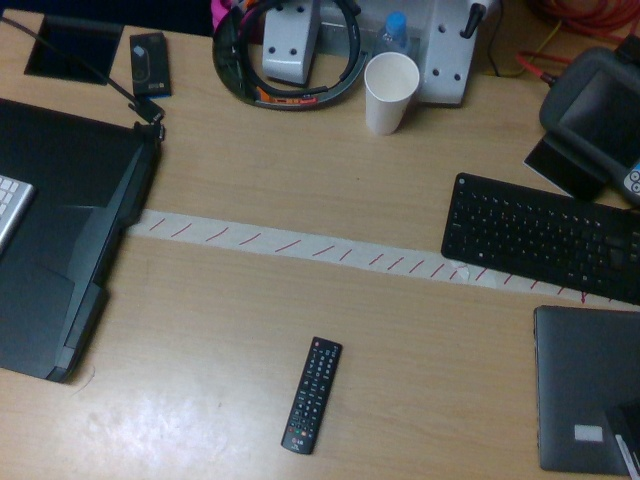remote: (280, 337, 345, 455)
